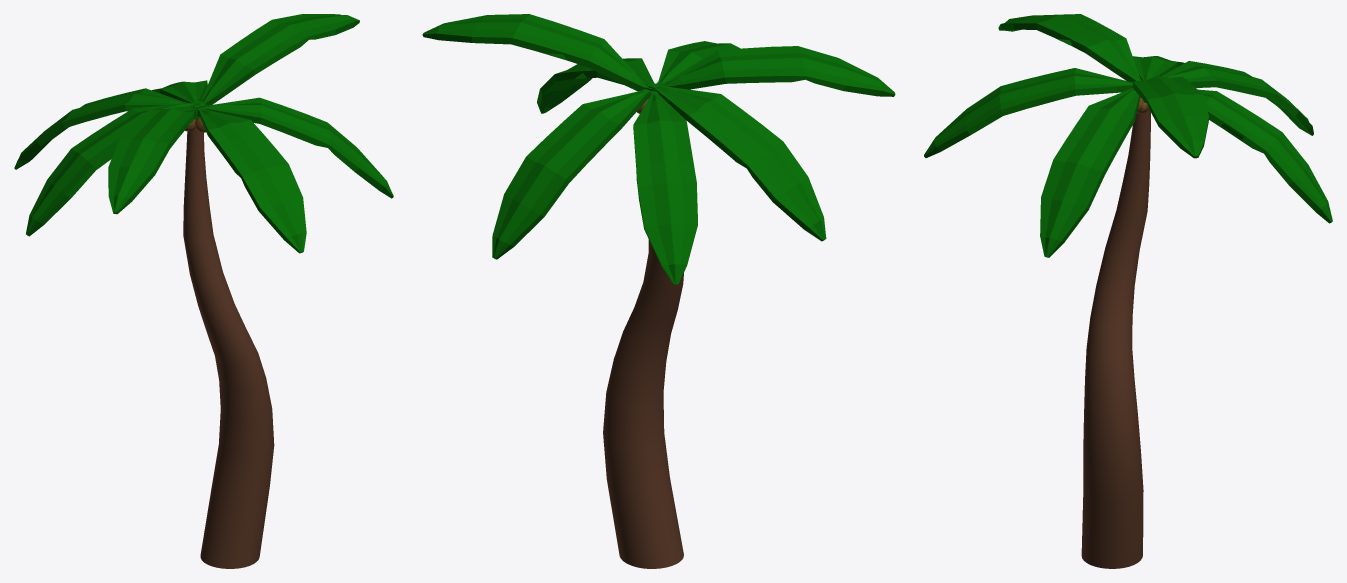
The model's file is palm tree_b.fbx.
The picture shows the model from 3 angles, left to right: view 1: azimuth 30°, elevation 25°; view 2: azimuth 150°, elevation 25°; view 3: azimuth 270°, elevation 25°; orthographic projection. The views are drawn at different scales.
Visible parts, largest first — view 1: Cylinder.026; view 2: Cylinder.026; view 3: Cylinder.026.
Boxes of the visible parts, box(x1,y1,x2,y2) form: Cylinder.026: box(14, 14, 393, 568); Cylinder.026: box(422, 14, 895, 568); Cylinder.026: box(924, 14, 1332, 568).
Bounding box in the file's own units: 521 × 693 × 505.
3 materials, 1 textured.
